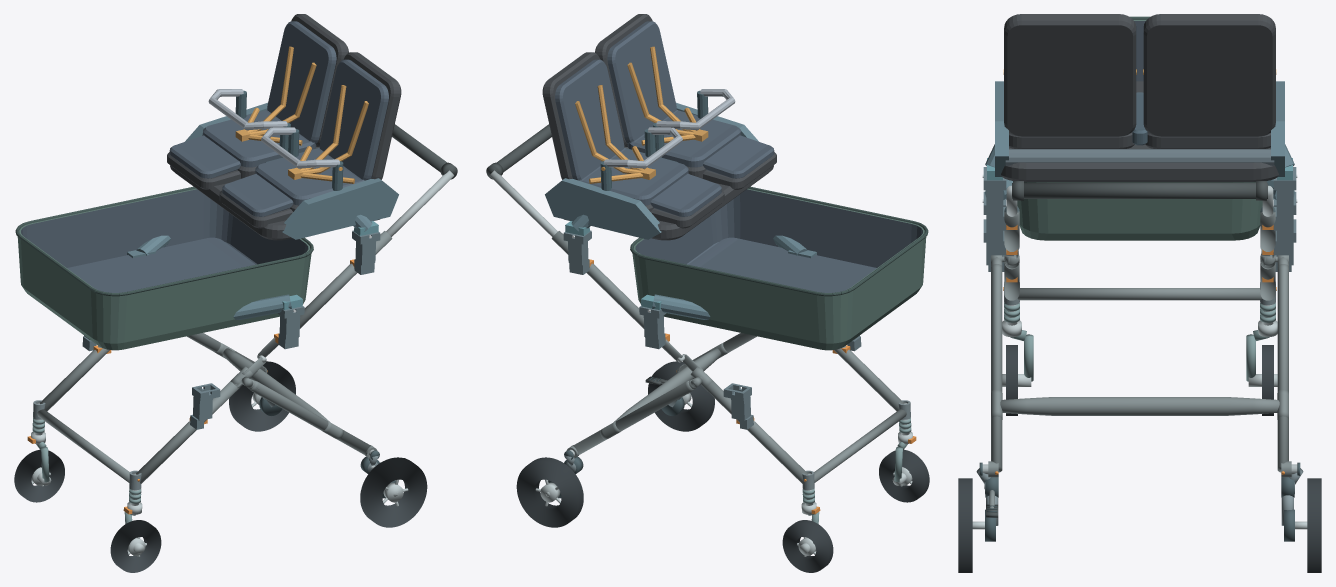
Rendered from D27_w650_state1_wheel_S.glb.
3 renders of one model, left to right at view 1: azimuth 30°, elevation 25°; view 2: azimuth 150°, elevation 25°; view 3: azimuth 270°, elevation 25°, orthographic. The views are drawn at different scales.
Visible parts, largest first — view 1: D27_Upper, D27_Lower, RL_tire.008, RR_tire.008, FL_tire.008, FR_tire.008, D27_Lower_Mount_M, V46_rear_leg_-1.009, main_lower_-1.009, front_fixed_round_tube.008, main_upper_-1.009, V46_rearbar.009 (+6 smaller); view 2: D27_Upper, D27_Lower, RR_tire.008, FR_tire.008, RL_tire.008, FL_tire.008, D27_Lower_Mount_M, V46_rear_leg_1.009, main_lower_1.009, front_fixed_round_tube.008, main_upper_1.009, V46_rearbar.009 (+6 smaller); view 3: D27_Upper, D27_Lower, V46_rearbar.009, round_handle.008, front_fixed_round_tube.008, V46_rear_leg_1.009, V46_rear_leg_-1.009, RL_tire.008, RR_tire.008, Universal_Cabin_Receiver_H_1, Universal_Cabin_Receiver_H_-1, FL_tire.008 (+8 smaller).
Part boxes in pixels (x1,y1,x2,y2): D27_Upper: (167,14,401,240); D27_Lower: (15,186,313,350); RL_tire.008: (360,457,427,527); RR_tire.008: (229,361,295,431); FL_tire.008: (110,520,161,572); FR_tire.008: (14,449,64,502); D27_Lower_Mount_M: (127,235,302,319); V46_rear_leg_-1.009: (250,381,370,454); main_lower_-1.009: (136,381,241,483); front_fixed_round_tube.008: (37,409,129,482); main_upper_-1.009: (300,231,392,328); V46_rearbar.009: (222,348,330,422); D27_Upper: (542,14,776,240); D27_Lower: (630,186,928,350); RR_tire.008: (516,457,583,527); FR_tire.008: (782,520,833,572); RL_tire.008: (648,361,714,431); FL_tire.008: (879,449,929,502); D27_Lower_Mount_M: (641,235,816,319); V46_rear_leg_1.009: (573,381,693,454); main_lower_1.009: (702,381,807,483); front_fixed_round_tube.008: (814,409,906,482); main_upper_1.009: (551,231,643,328); V46_rearbar.009: (613,348,721,422); D27_Upper: (995,14,1284,182); D27_Lower: (1017,16,1262,240); V46_rearbar.009: (1000,397,1279,415); round_handle.008: (1012,183,1267,198); front_fixed_round_tube.008: (1017,288,1262,300); V46_rear_leg_1.009: (1277,264,1288,472); V46_rear_leg_-1.009: (991,264,1002,472); RL_tire.008: (958,478,972,572); RR_tire.008: (1307,478,1321,572); Universal_Cabin_Receiver_H_1: (1273,167,1296,230); Universal_Cabin_Receiver_H_-1: (983,167,1006,230); FL_tire.008: (1006,345,1017,415).
Size of the model in its own units: 1.15 by 1.32 by 0.766.
